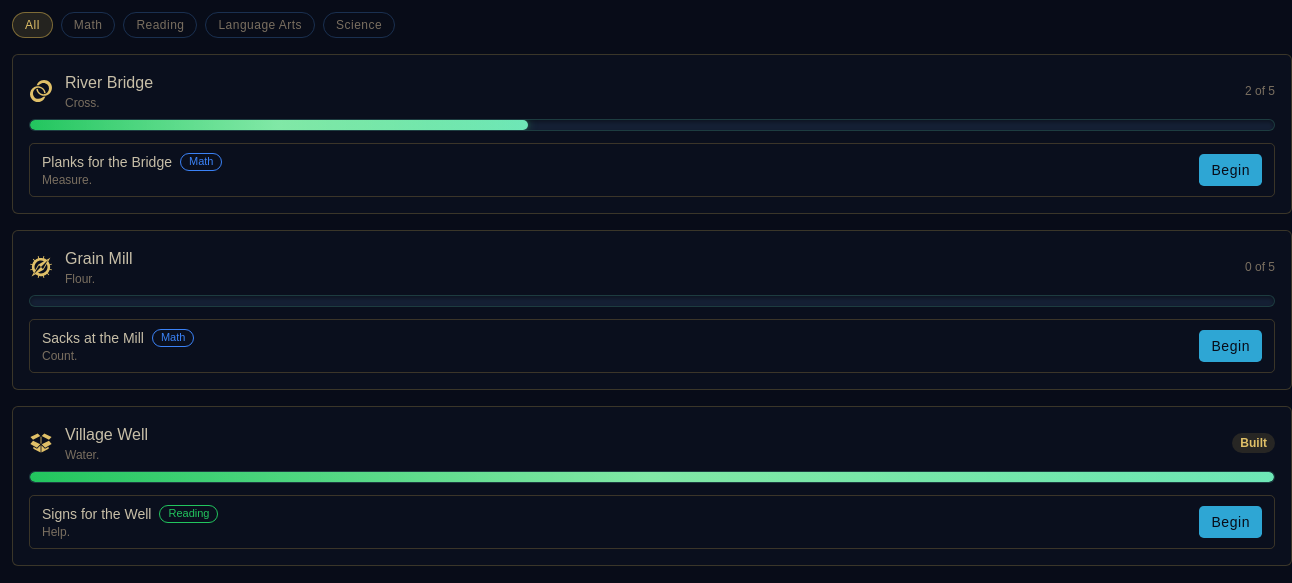
Test: DeedPicker › shows each side quest's subject and filters by it
Step 1. Click the button "Reading" → (160, 25), box [123,12,198,38]
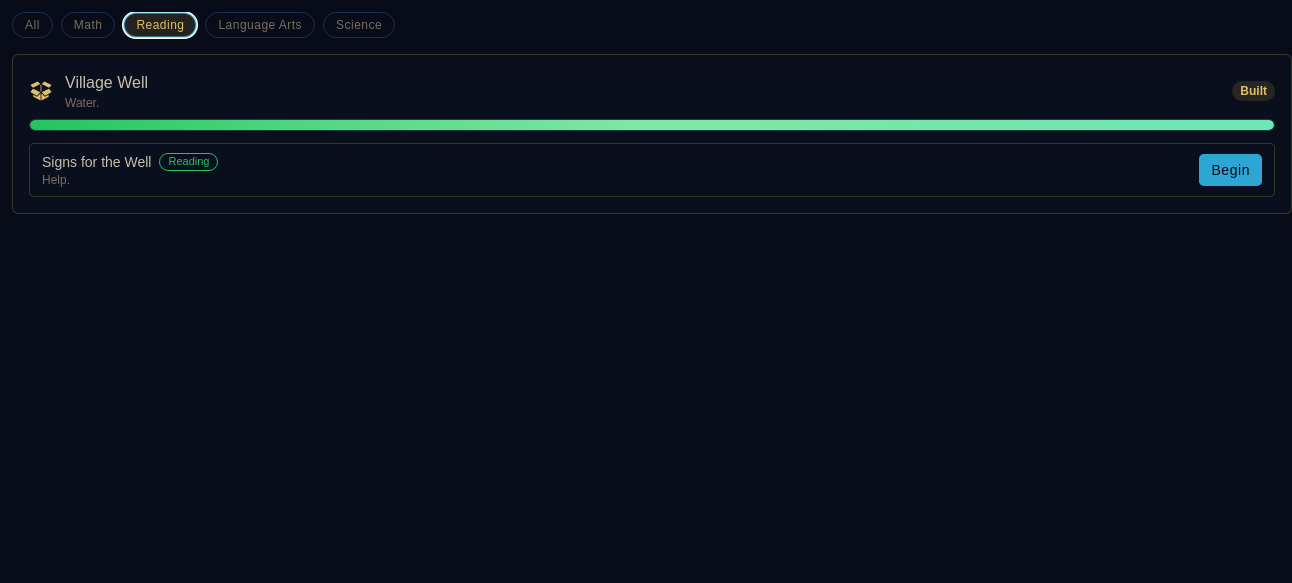
Expected: the heading "Village Well" is shown, [65,74,148,91]
Now the heading "Grain Mill" is gone
Step 2. Click the button "All" → (32, 25), box [12,12,53,38]
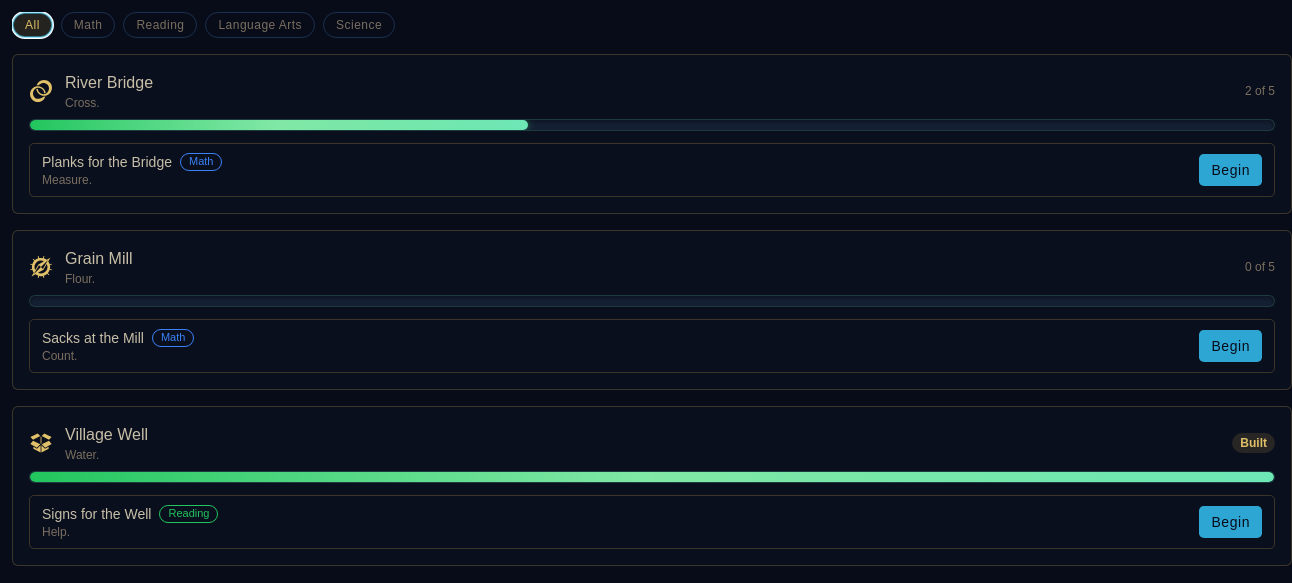
Now the heading "Grain Mill" is shown, box [65,250,133,267]
